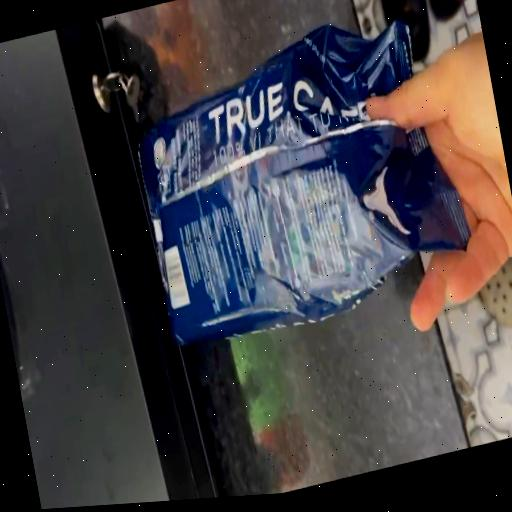cafe_hat: (139, 22, 470, 343)
